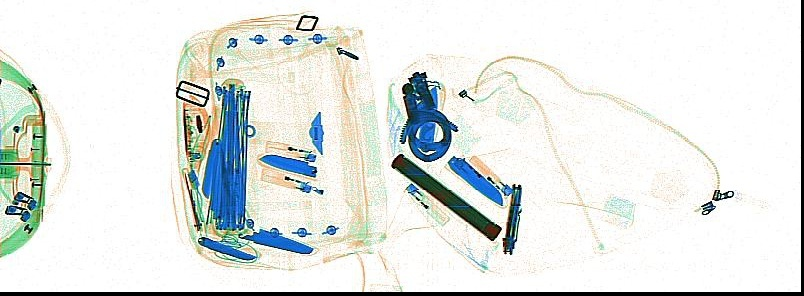handcuffs: (396, 70, 458, 162)
knife: (192, 217, 311, 252), (443, 154, 505, 206), (417, 84, 445, 151), (195, 233, 258, 261), (255, 151, 318, 178), (500, 182, 521, 255), (179, 165, 202, 230), (199, 136, 223, 197)
lighter: (404, 183, 450, 227), (466, 154, 513, 196), (264, 138, 316, 164), (259, 168, 312, 192)
